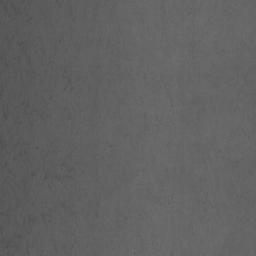Silk spot: (43, 167, 75, 184), (18, 41, 31, 64), (61, 202, 77, 218), (41, 213, 52, 224), (23, 215, 35, 225), (0, 136, 7, 150), (3, 104, 9, 120)
